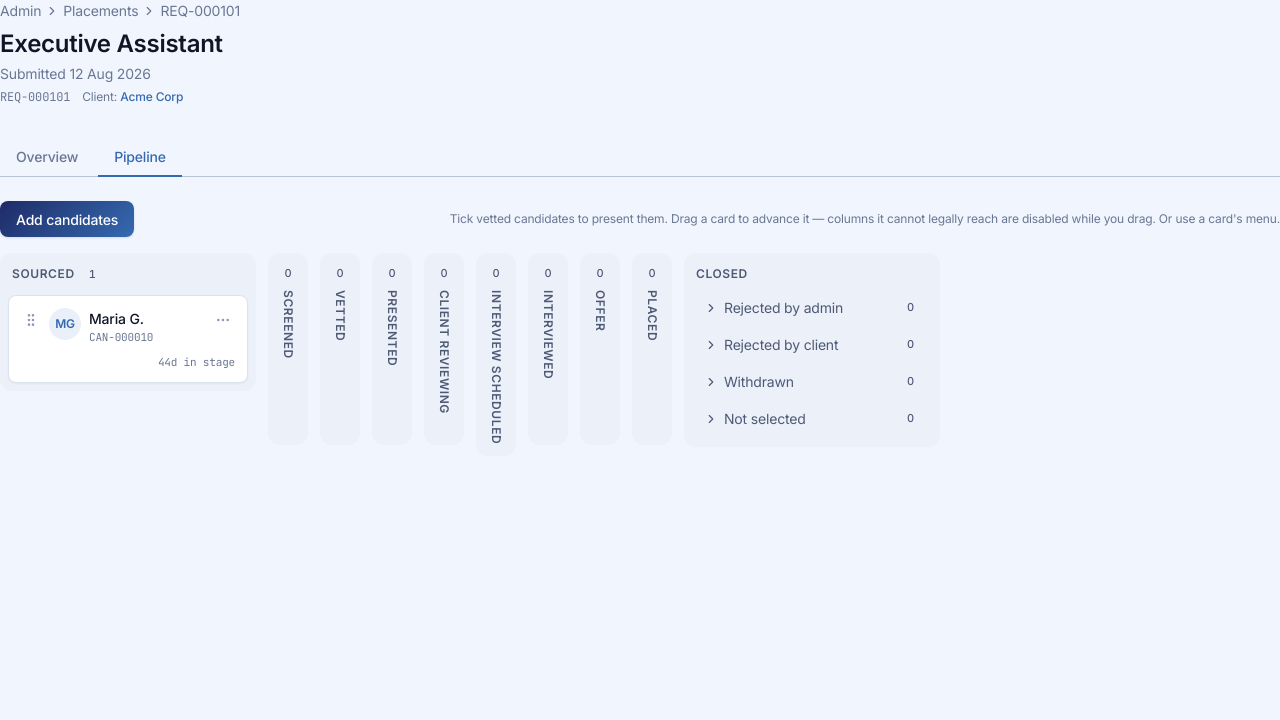
Test: add candidates sheet › surfaces 422 blockedCandidates with names, atomically
This screenshot has width=1280, height=720.
expect the element named "Sourced column" is shown: met, box [0,253,256,391]
Click the button "Add candidates".
click(67, 219)  # box [0,201,134,237]
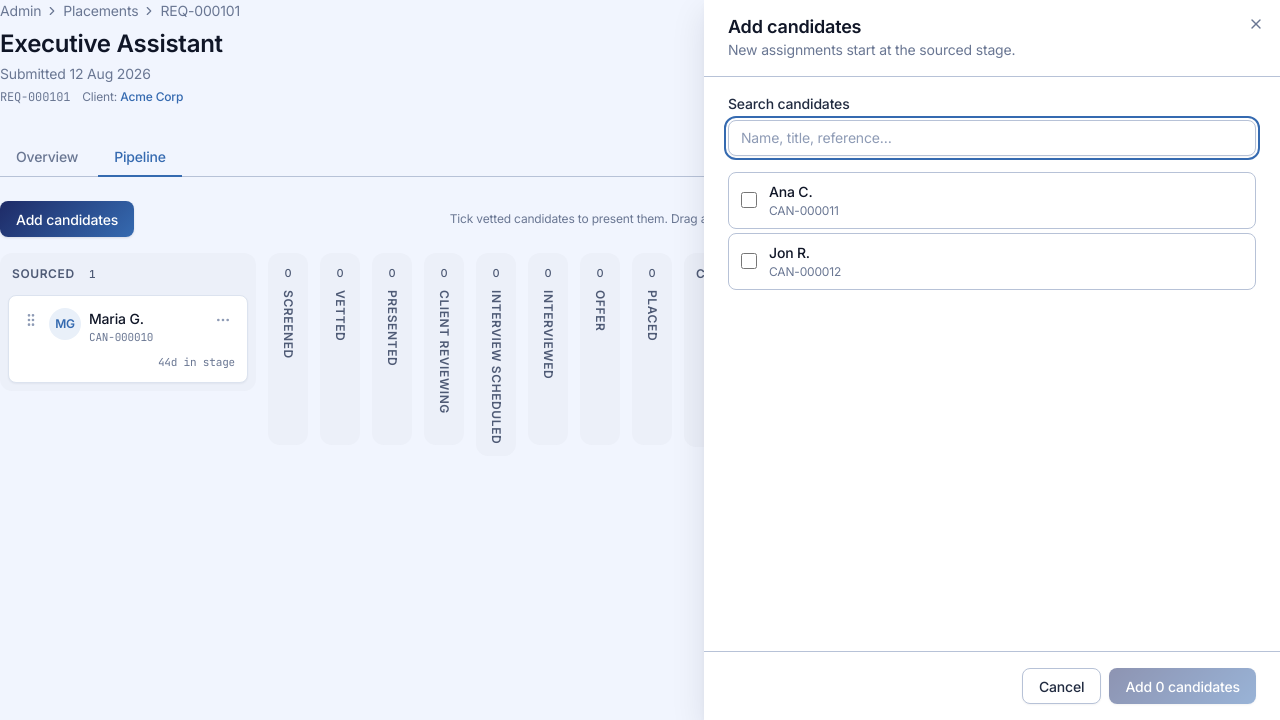
expect the dialog is shown: met, box [704,0,1279,719]
Click the checkbox labelled "Jon R. CAN-000012".
click(749, 261)  # box [741,253,757,269]
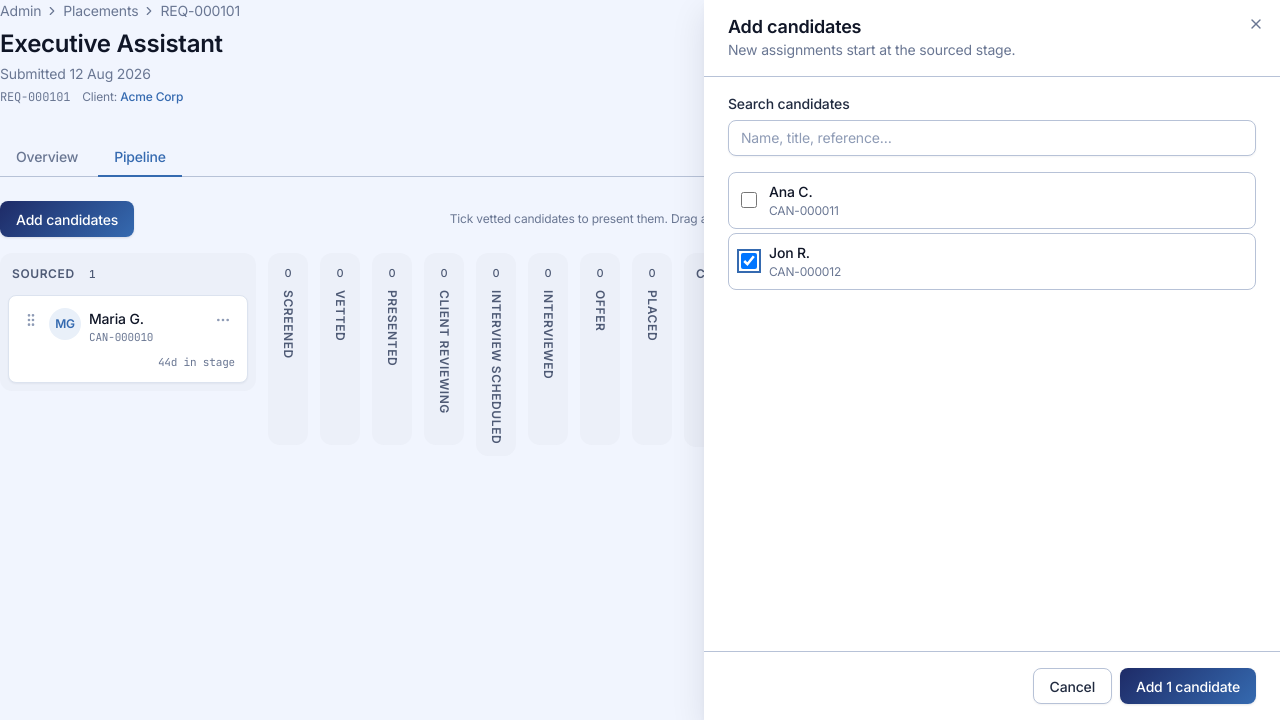
Click the button "Add 1 candidate".
click(1188, 686)  # box [1120,668,1256,704]
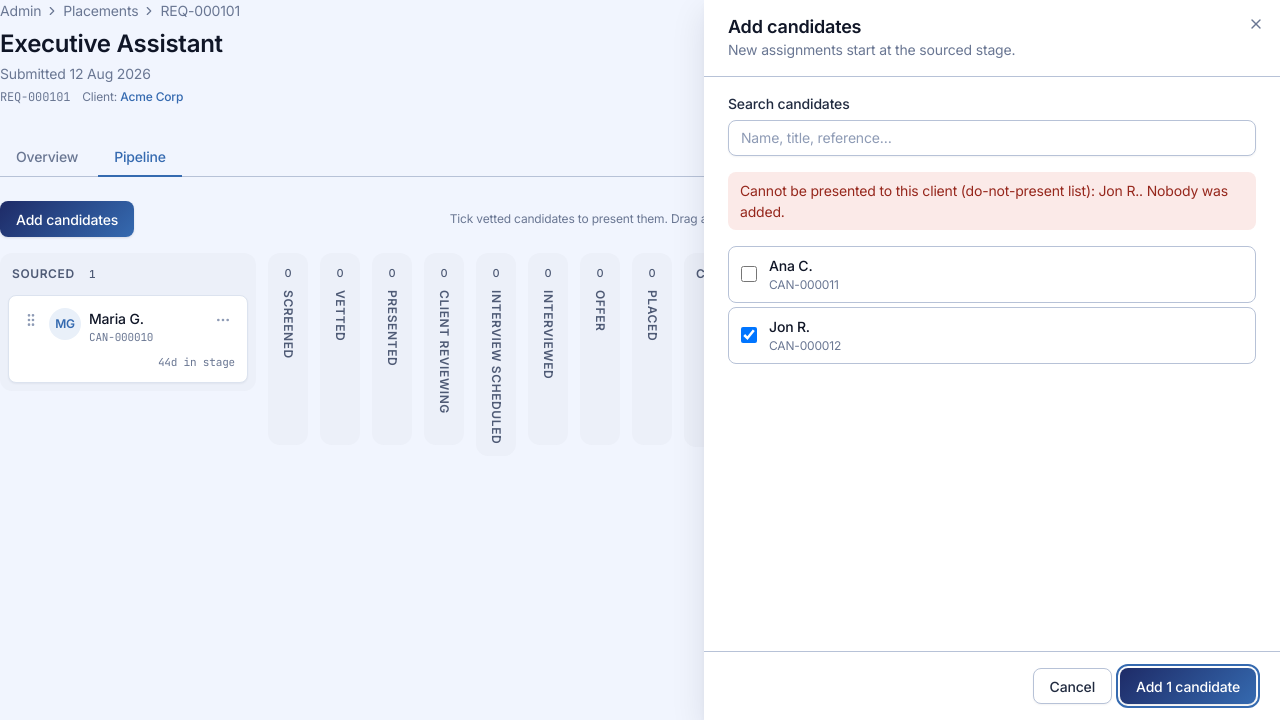
expect the message shows "do-not-present": met, box [740,182,1228,220]
expect the message shows "Jon R.": met, box [740,182,1228,220]
expect the message shows "Nobody was added.": met, box [740,182,1228,220]
